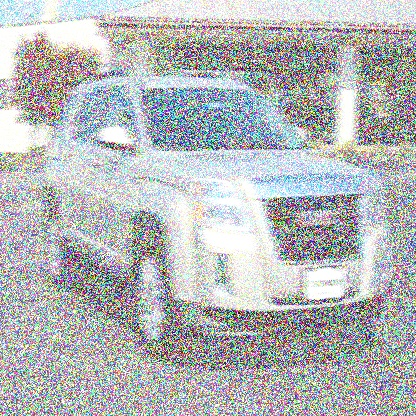Vehicle: (43, 74, 392, 363)
